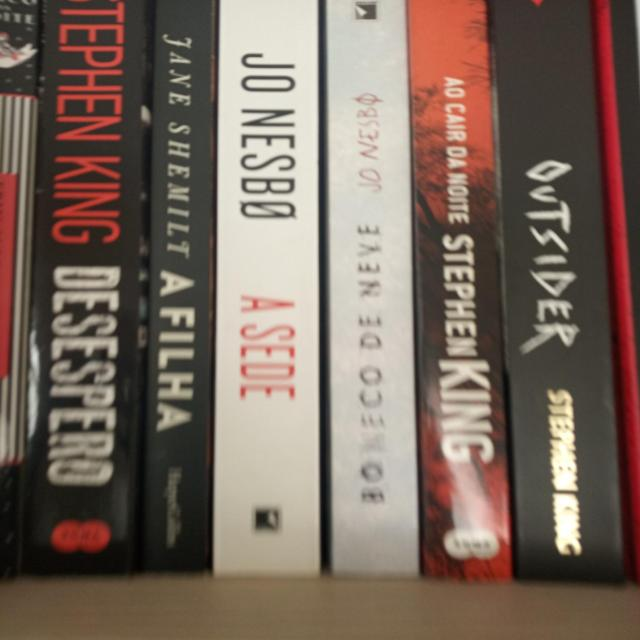book: (221, 2, 313, 570), (36, 3, 125, 565), (329, 4, 401, 568), (145, 8, 208, 566), (429, 11, 491, 571)
